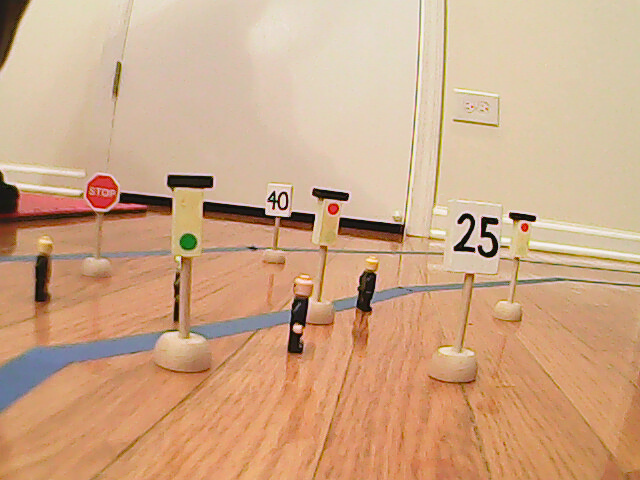Green Traffic Light: (166, 171, 209, 259)
Person: (287, 272, 315, 356), (33, 234, 59, 306), (354, 252, 380, 317)
Red Traffic Light: (311, 187, 341, 249), (508, 211, 535, 262)
Speed Limit 25: (446, 201, 502, 277)
Speed Limit 40: (264, 179, 292, 219)
Stop Sign: (85, 171, 118, 214)
